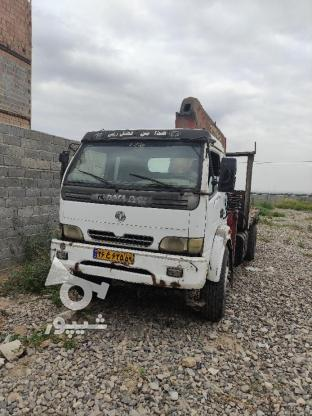car: (94, 247, 136, 266)
